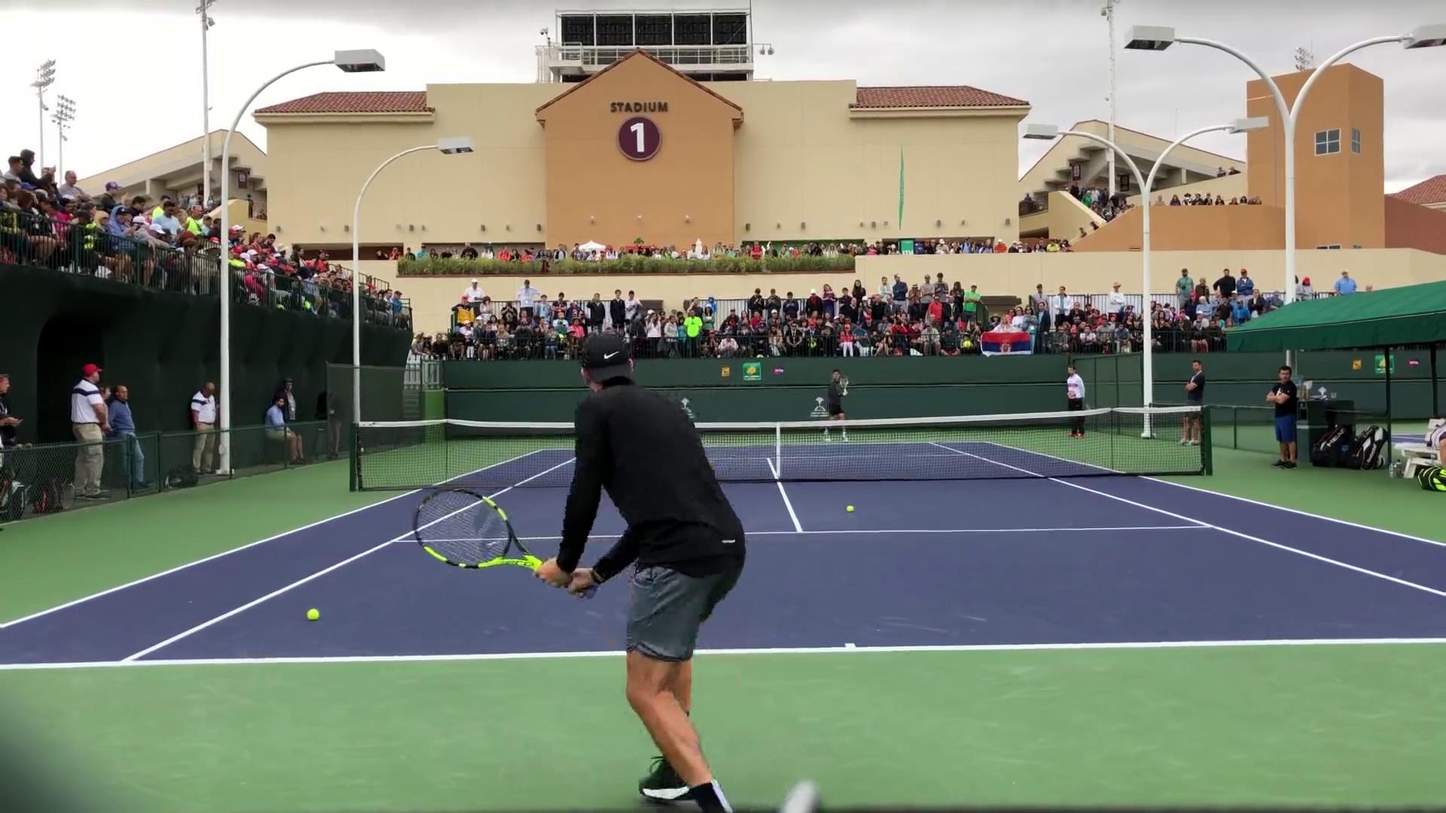ball: (306, 608, 320, 621), (846, 505, 854, 512)
